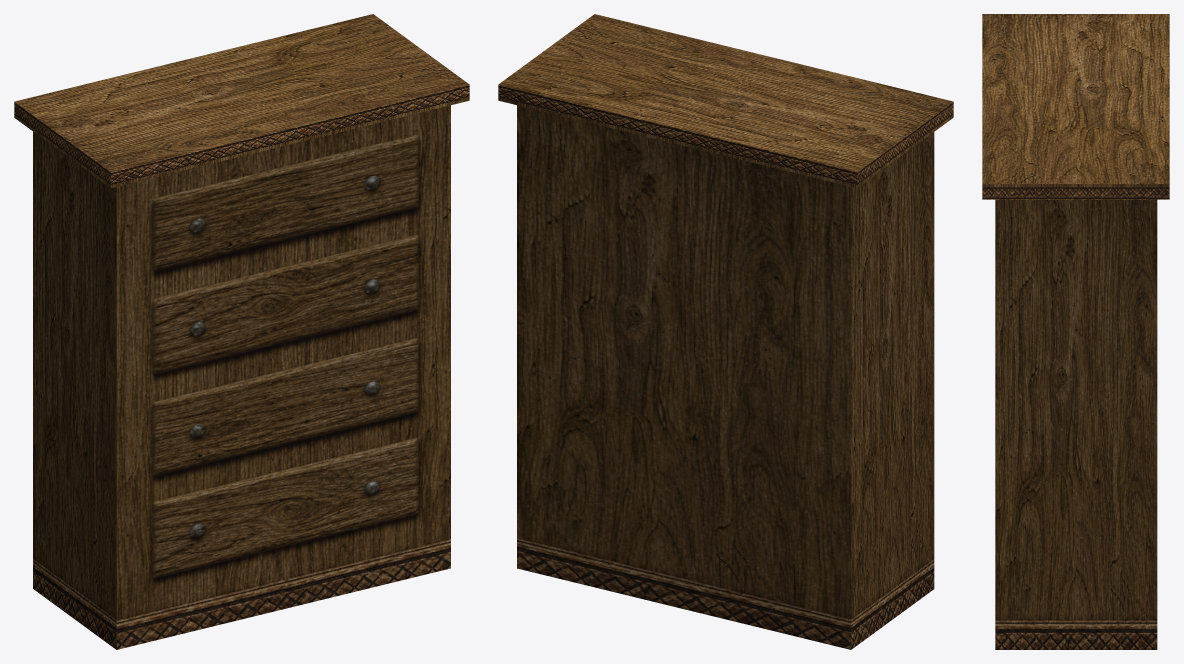
Rendered from mm9_deco_dresserns.glb.
The picture shows the model from 3 angles, left to right: view 1: azimuth 30°, elevation 25°; view 2: azimuth 150°, elevation 25°; view 3: azimuth 270°, elevation 25°; orthographic projection. The views are drawn at different scales.
Parts seen in each view (by area): view 1: Dresserns; view 2: Dresserns; view 3: Dresserns.
Part boxes in pixels (x1=…): Dresserns: x1=14, y1=14, x2=469, y2=649; Dresserns: x1=498, y1=14, x2=953, y2=649; Dresserns: x1=982, y1=14, x2=1169, y2=649.
Bounding box in the file's own units: 1.34 × 1.73 × 0.6234.
2 materials, 2 textured.
